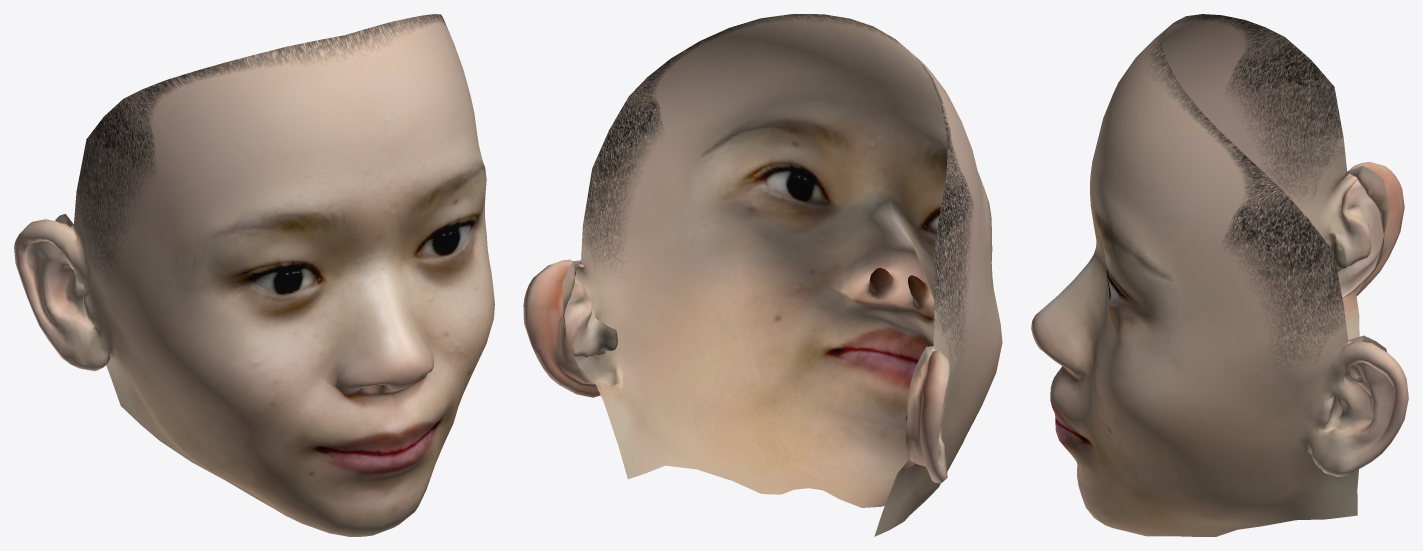
The model's file is Alya_face.fbx.
3 views of the same model, side by side, from view 1: azimuth 30°, elevation 25°; view 2: azimuth 150°, elevation 25°; view 3: azimuth 270°, elevation 25° (orthographic).
Visible parts, largest first — view 1: avaturn_body.001; view 2: avaturn_body.001; view 3: avaturn_body.001.
Boxes of the visible parts, x1,y1,x2,y2 form: avaturn_body.001: (14,14,494,536); avaturn_body.001: (523,14,1002,536); avaturn_body.001: (1031,14,1408,536).
Bounding box in the file's own units: 18.02 × 20.47 × 14.35.
Materials: 1 (1 with a texture image).
